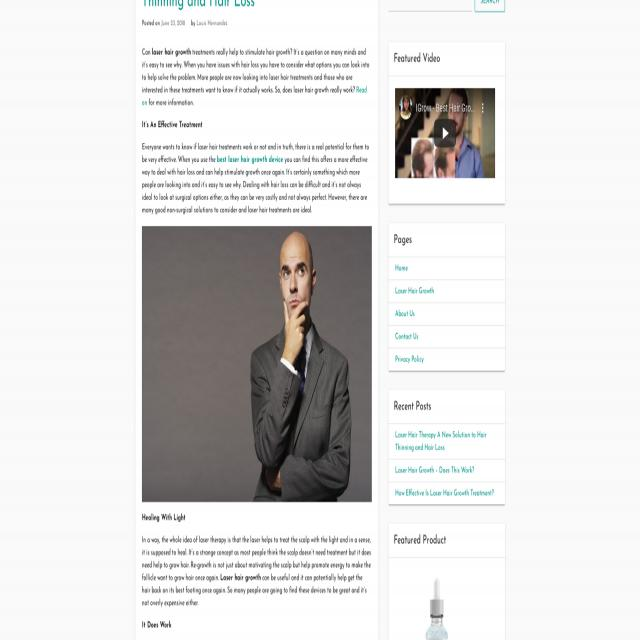button: (142, 226, 372, 502), (395, 90, 495, 178), (392, 560, 502, 640), (434, 119, 456, 147), (475, 0, 505, 12), (399, 94, 413, 118), (478, 98, 486, 116)
field: (388, 0, 472, 12)
